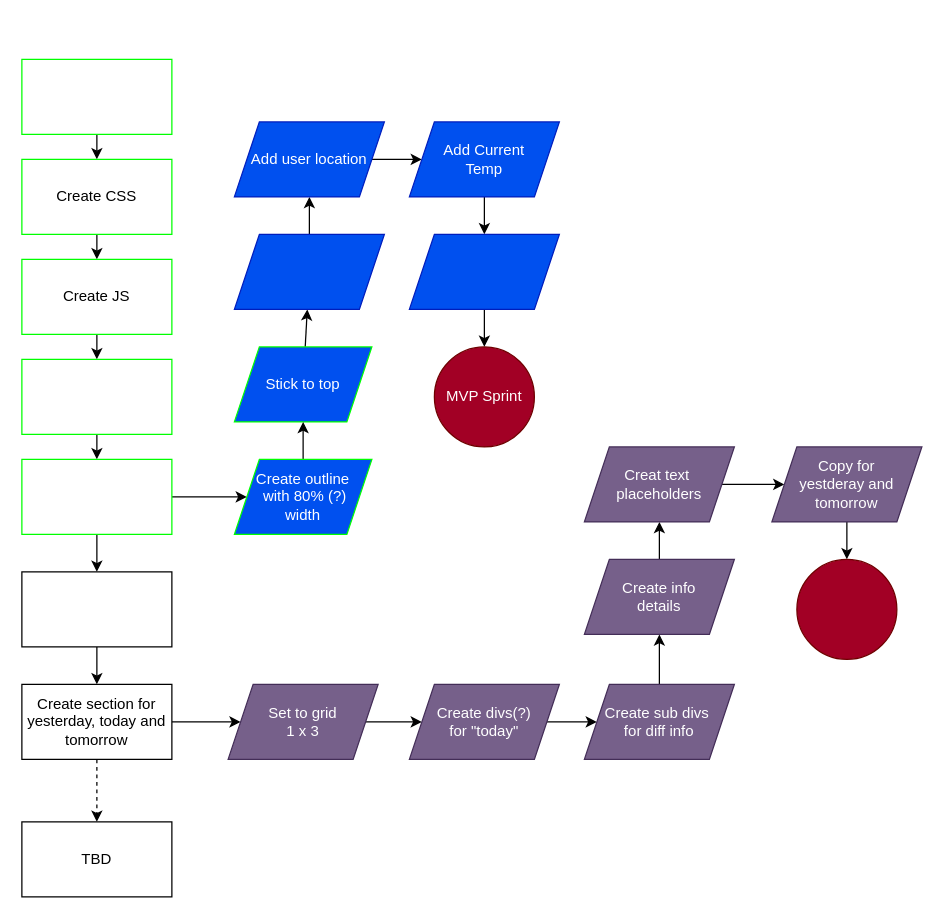
Image size: 944x919. Some labels were removed from this diagram. The shapes that lost their labels are listed below. From the top down, each one's box as (x1, y1, x2, y2) in pixels, then its label:
(21, 58, 172, 134): Create HTML
(233, 233, 384, 309): Add blank input box
(408, 233, 559, 309): Add Current Weather
(21, 358, 172, 434): Link files
(21, 458, 172, 534): Create Header
(21, 571, 172, 647): Create Main
(796, 558, 897, 659): Daily Sprint
